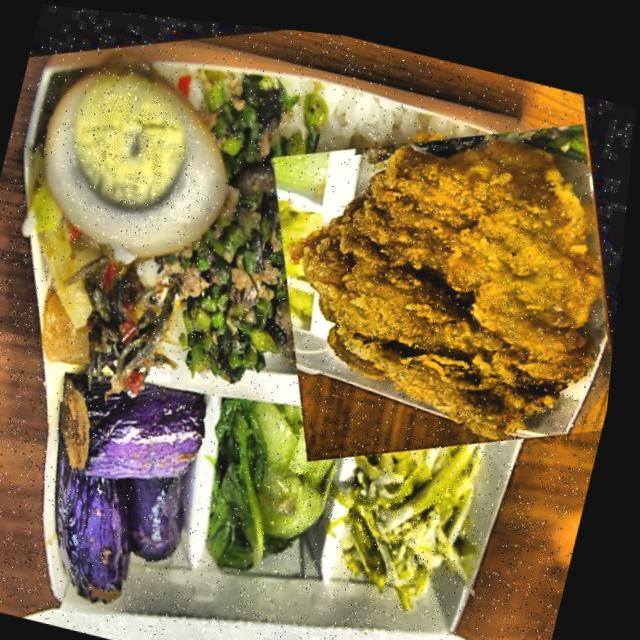Food: (210, 41, 638, 517)
